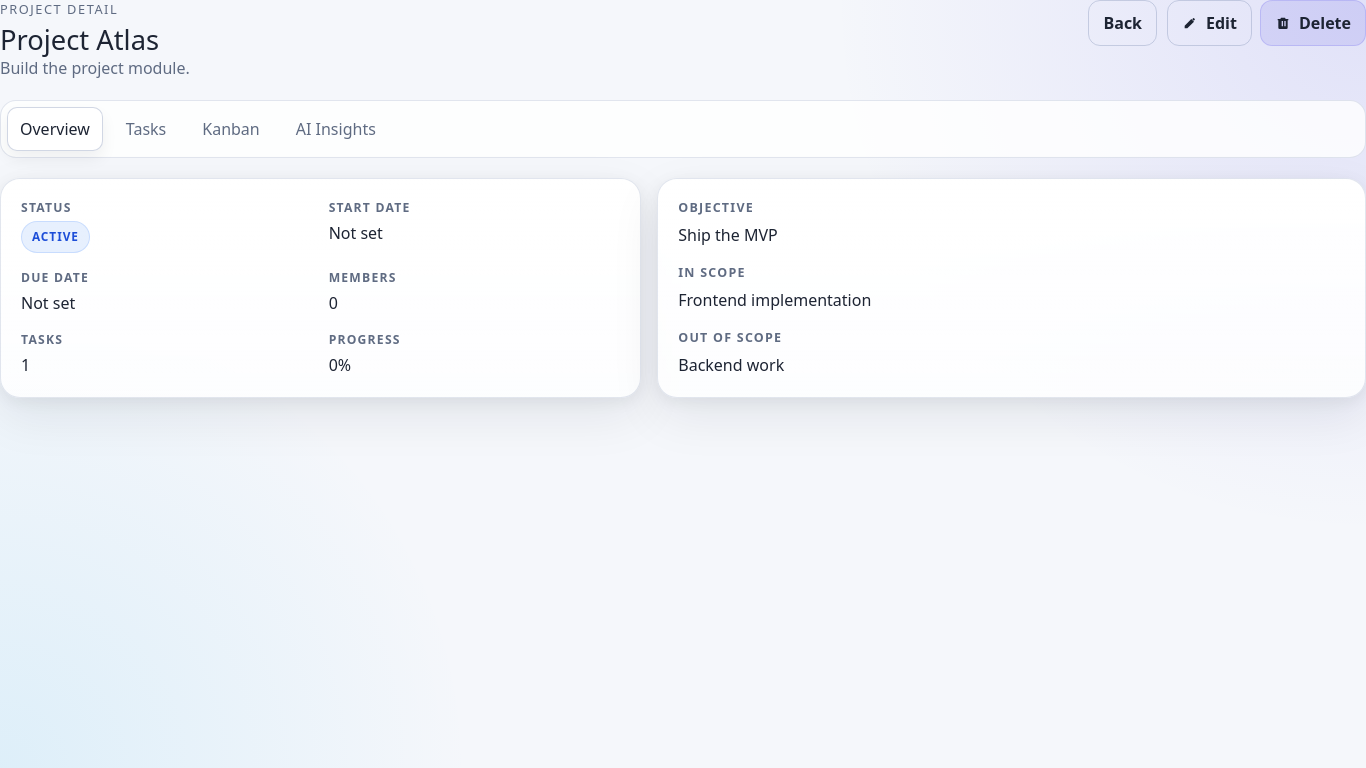
Test: ProjectDetailPage › keeps the edit surface and delete confirmation mutually exclusive
Expected: the heading "Project Atlas" is shown, [0,21,159,58]
What coordinates should you click on to do the following:
click the button with aria-label "Edit project"
I would click on:
 (1209, 23)
Its box is [1167,0,1252,46].
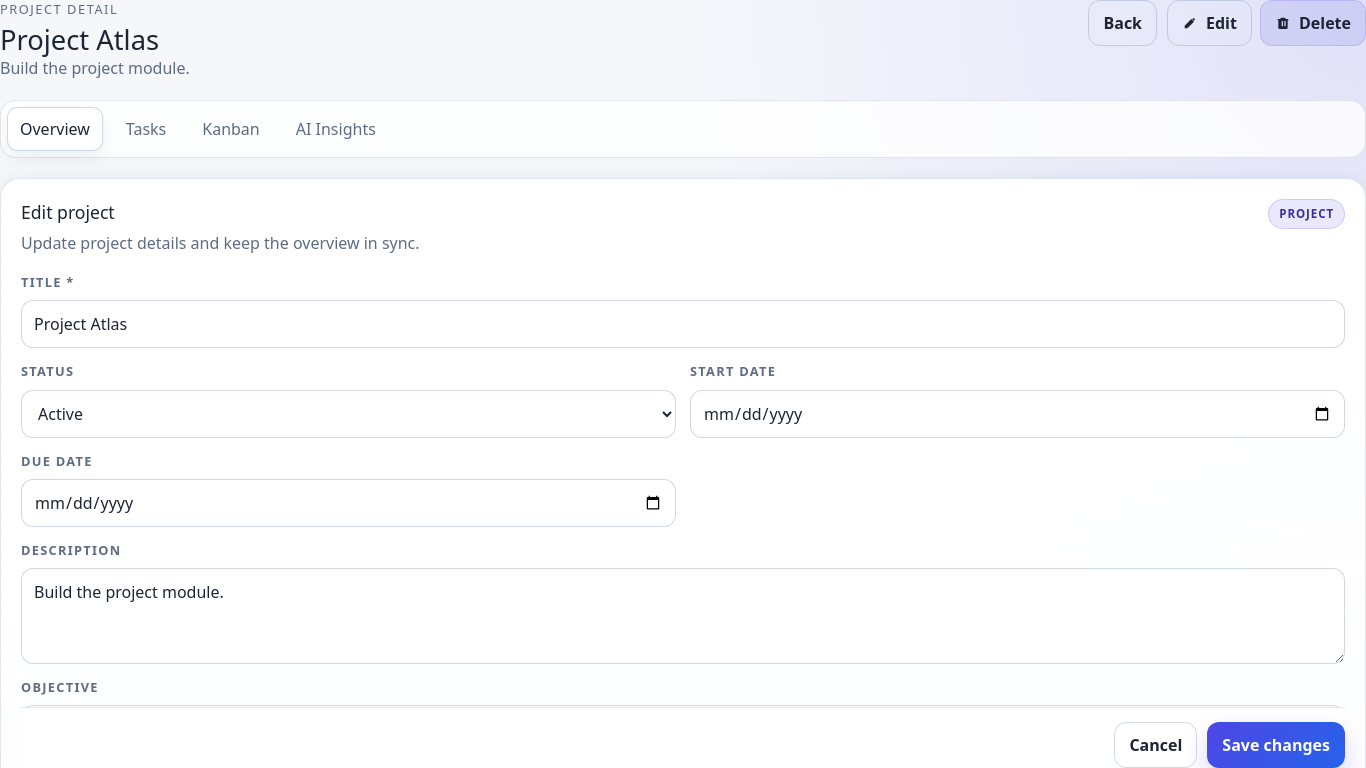
Result: the heading "Edit project" is shown at [21,200,115,224]
What coordinates should you click on to do the following:
click the button with aria-label "Delete project"
I would click on:
 (1313, 23)
Its box is [1260,0,1365,46].
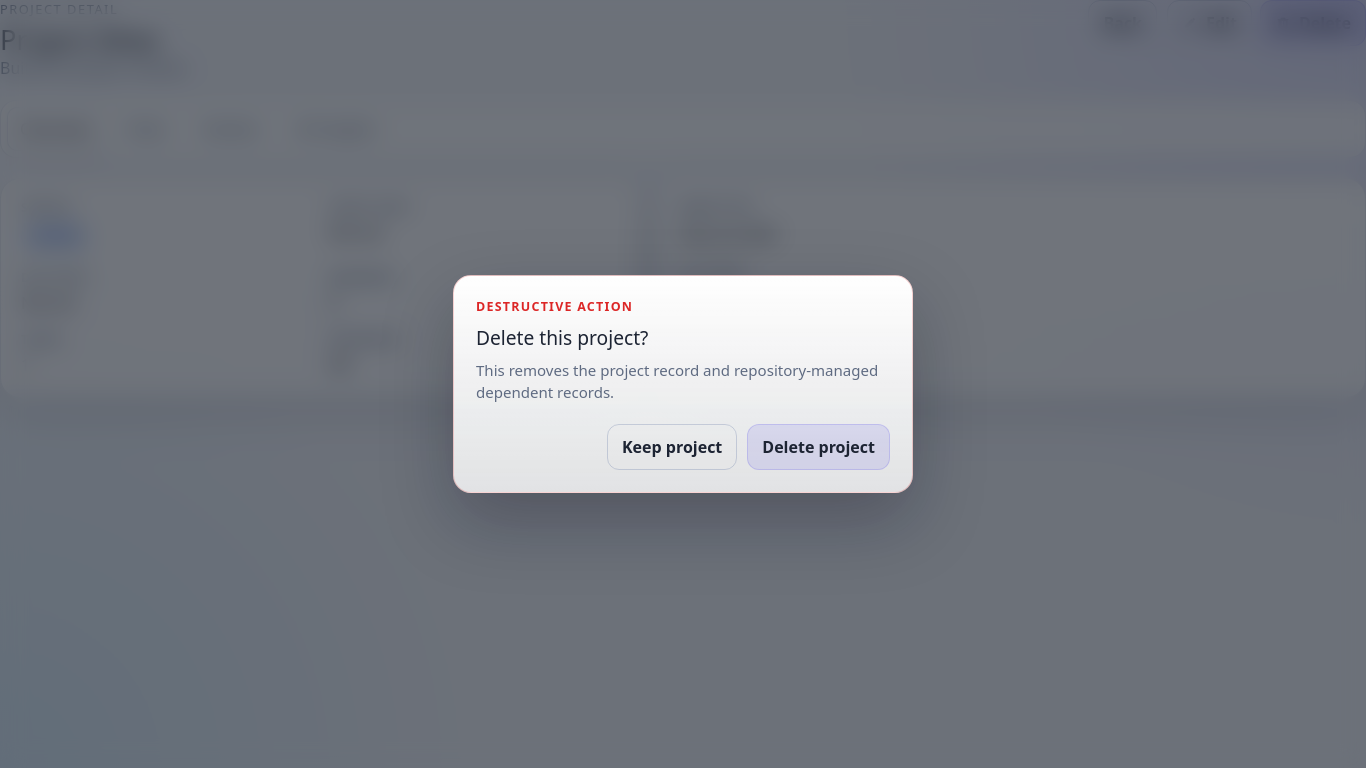
Result: the heading "Edit project" is gone
Result: the dialog "Delete this project?" is shown at [453,275,913,493]
